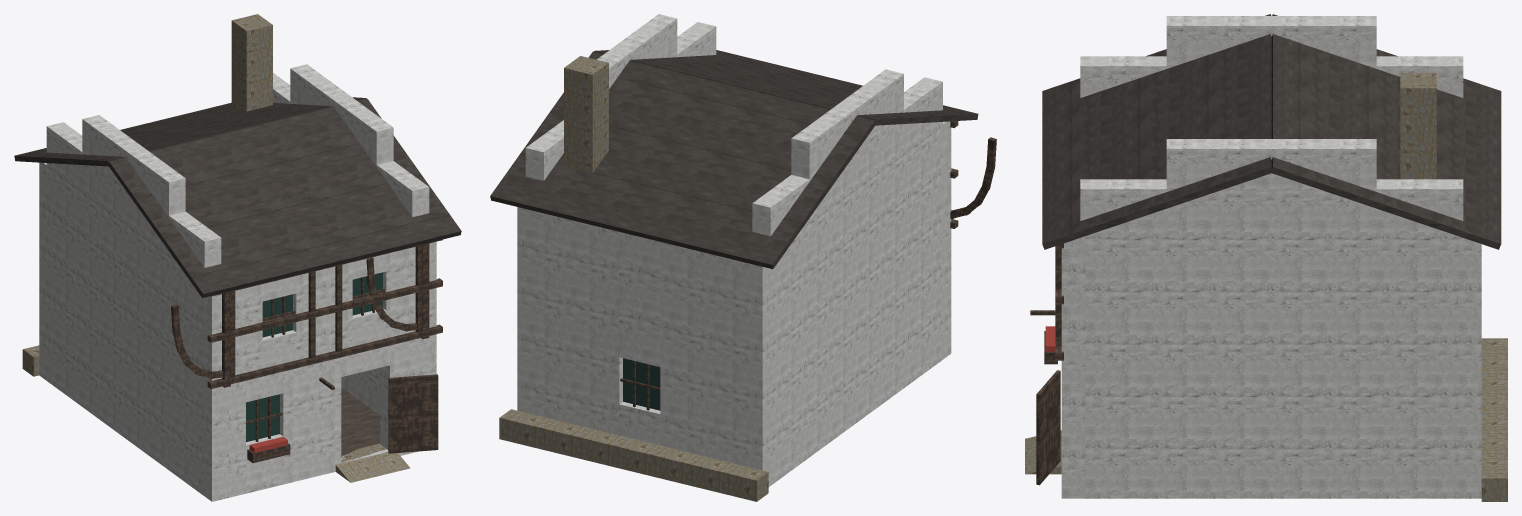
The model's file is prop_hk_house_b.glb.
3 views of the same model, side by side, from view 1: azimuth 30°, elevation 25°; view 2: azimuth 150°, elevation 25°; view 3: azimuth 270°, elevation 25° (orthographic). The views are drawn at different scales.
Parts seen in each view (by area): view 1: building_hk_rowhouse_b; view 2: building_hk_rowhouse_b; view 3: building_hk_rowhouse_b.
Boxes of the visible parts, x1=… form: building_hk_rowhouse_b: x1=14, y1=14, x2=461, y2=501; building_hk_rowhouse_b: x1=490, y1=14, x2=996, y2=501; building_hk_rowhouse_b: x1=1025, y1=14, x2=1507, y2=501.
Bounding box in the file's own units: 7.53 × 8.32 × 9.2.
Materials: 7 (7 with a texture image).
